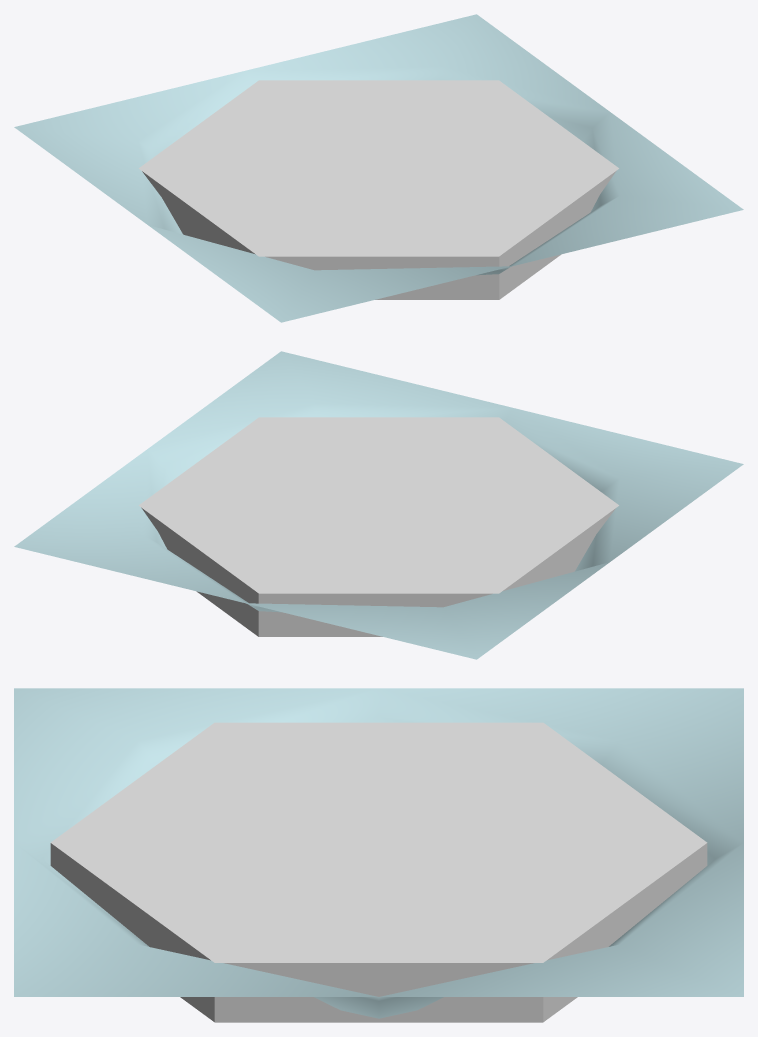
Rendered from GeyserDown.fbx.
The picture shows the model from 3 angles, top to bottom: view 1: azimuth 30°, elevation 25°; view 2: azimuth 150°, elevation 25°; view 3: azimuth 270°, elevation 25°; orthographic projection. The views are drawn at different scales.
Visible parts, largest first — view 1: Stone.003, GeyserHole.001; view 2: Stone.003, GeyserHole.001; view 3: Stone.003, GeyserHole.001.
Boxes of the visible parts, x1=… form: Stone.003: x1=139, y1=80, x2=618, y2=299; GeyserHole.001: x1=14, y1=14, x2=743, y2=322; Stone.003: x1=139, y1=417, x2=618, y2=636; GeyserHole.001: x1=14, y1=351, x2=743, y2=659; Stone.003: x1=50, y1=722, x2=707, y2=1022; GeyserHole.001: x1=14, y1=688, x2=743, y2=1018.
Bounding box in the file's own units: 100 × 9 × 100.
